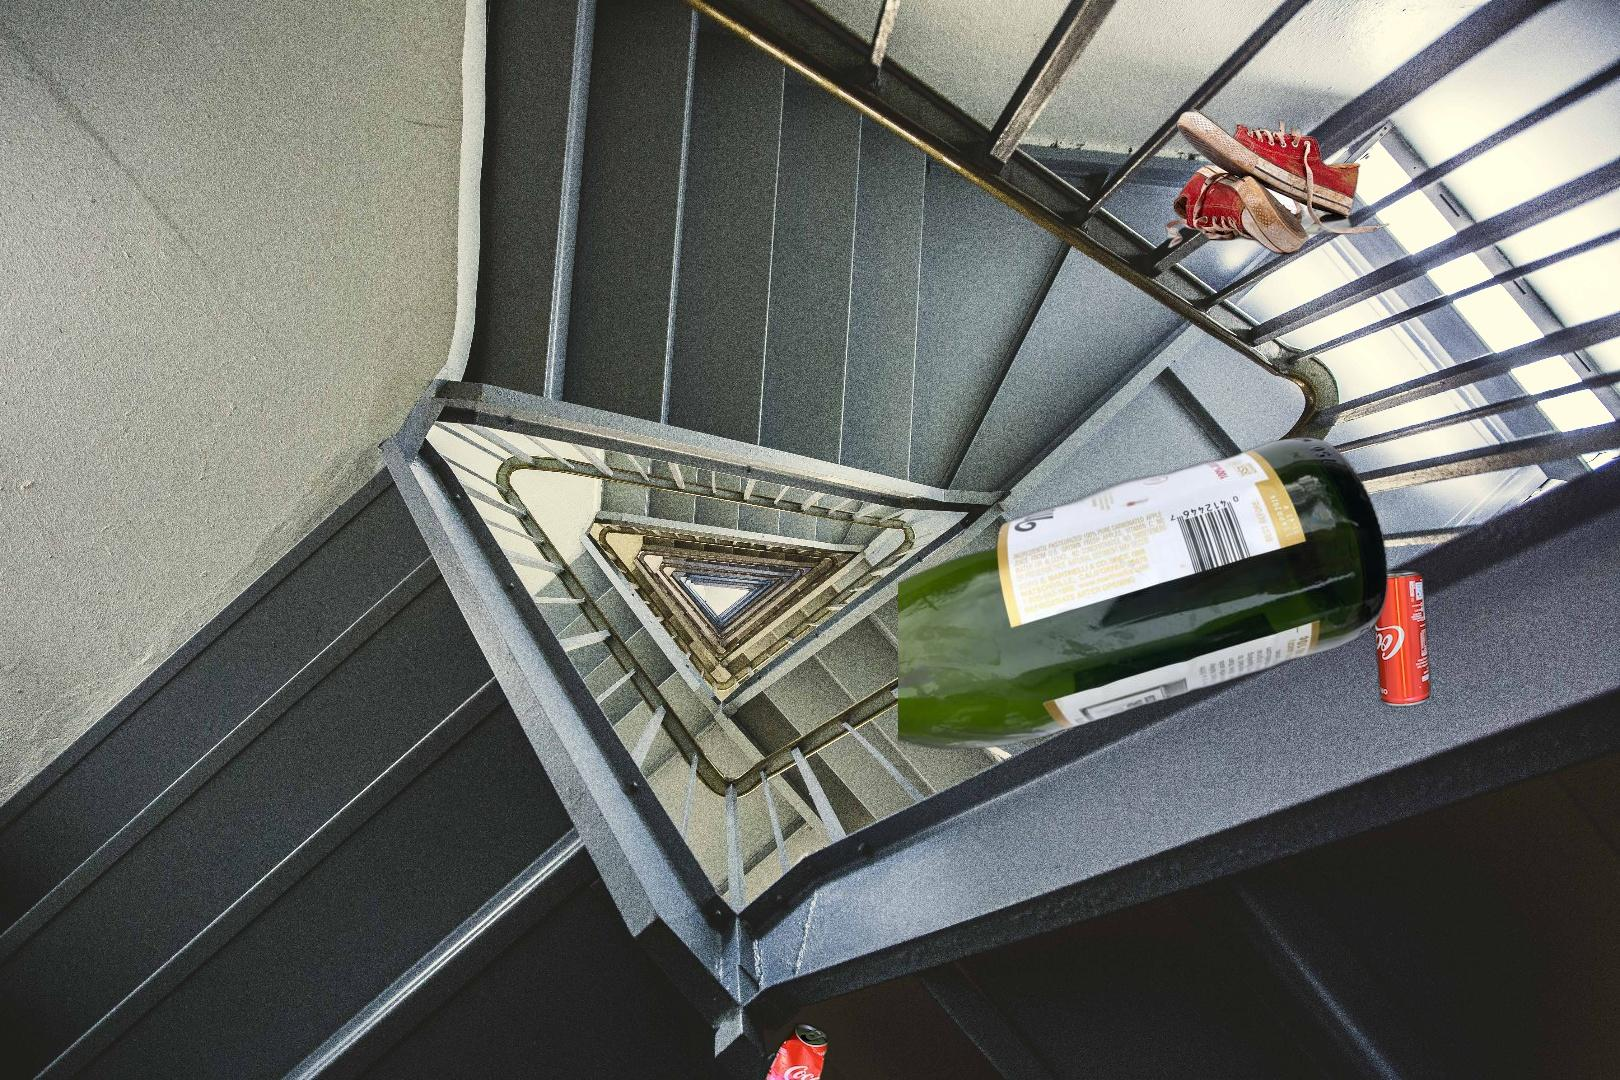glass: (898, 434, 1393, 752)
metal-cans: (1366, 564, 1434, 713), (756, 1018, 834, 1080)
shoes: (1164, 105, 1392, 257)
trashbox-cardboard: (588, 715, 1620, 1080)
